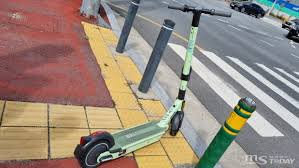guide_blocks: (2, 102, 73, 157), (83, 23, 143, 84), (110, 88, 162, 117), (139, 149, 196, 167), (86, 107, 120, 128)
kick_board: (75, 3, 232, 164)
kick_body: (111, 122, 168, 147)
kick_handler: (167, 4, 231, 22)
kick_neck: (176, 26, 202, 108)
kick_wheel: (76, 130, 113, 165), (172, 113, 183, 135)
